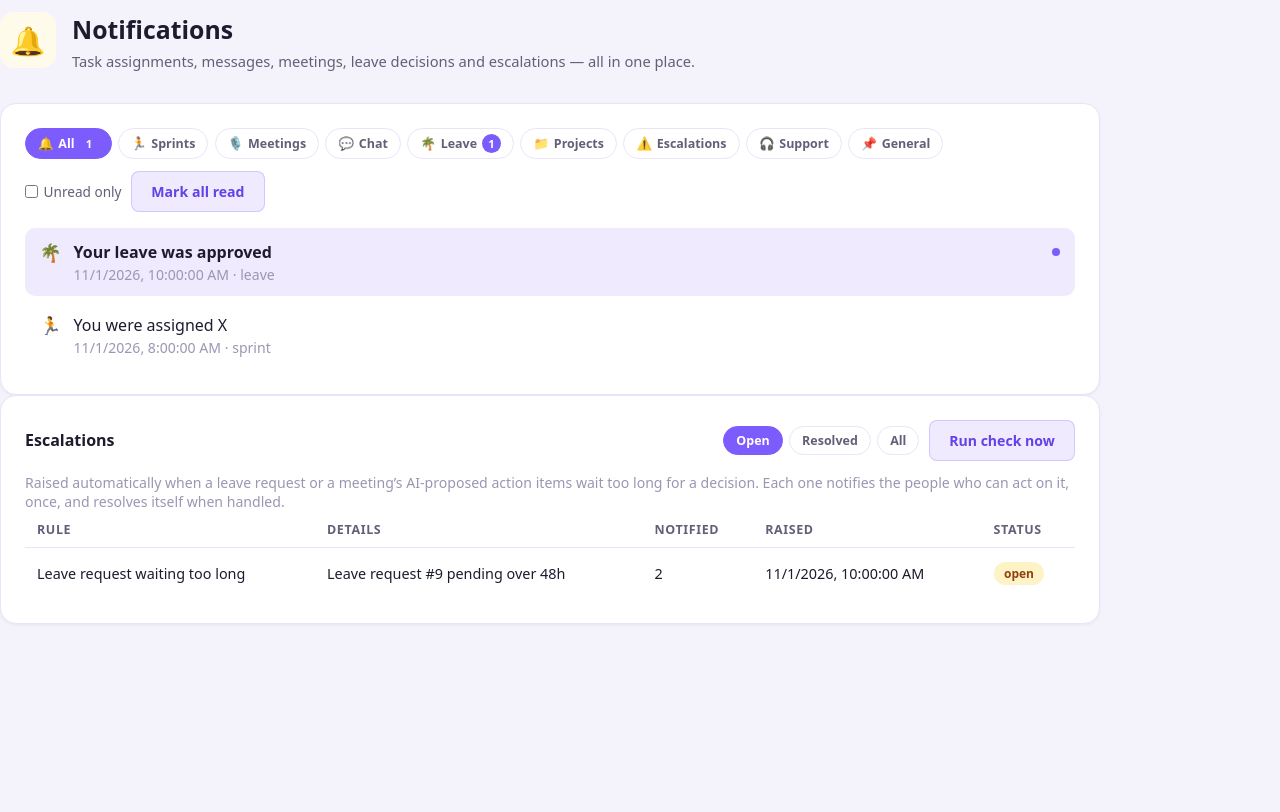
Test case: HR sees escalations but cannot force a sweep; admin can
Click the button "Run check now".
click(1002, 440)  # box x1=929 y1=420 x2=1075 y2=461
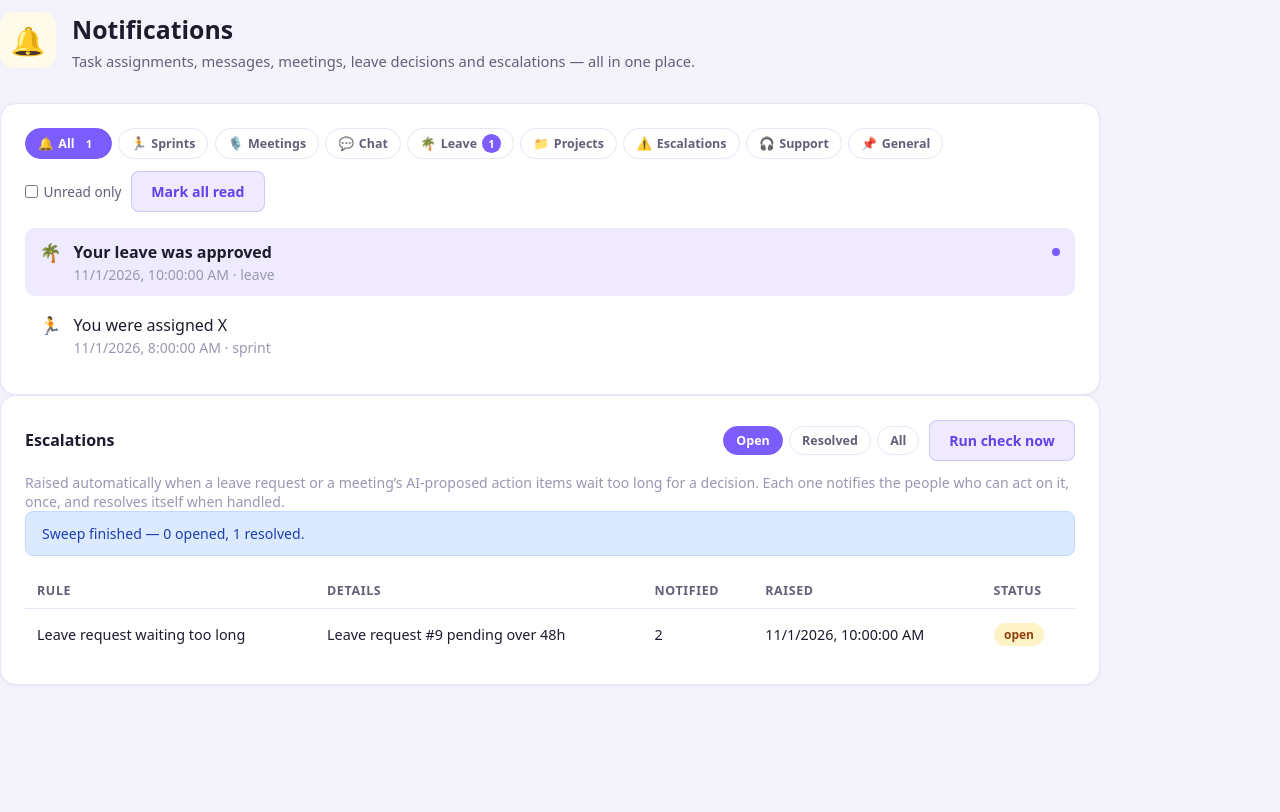
Expected: the text "1 resolved" is shown, x1=42 y1=524 x2=304 y2=543
